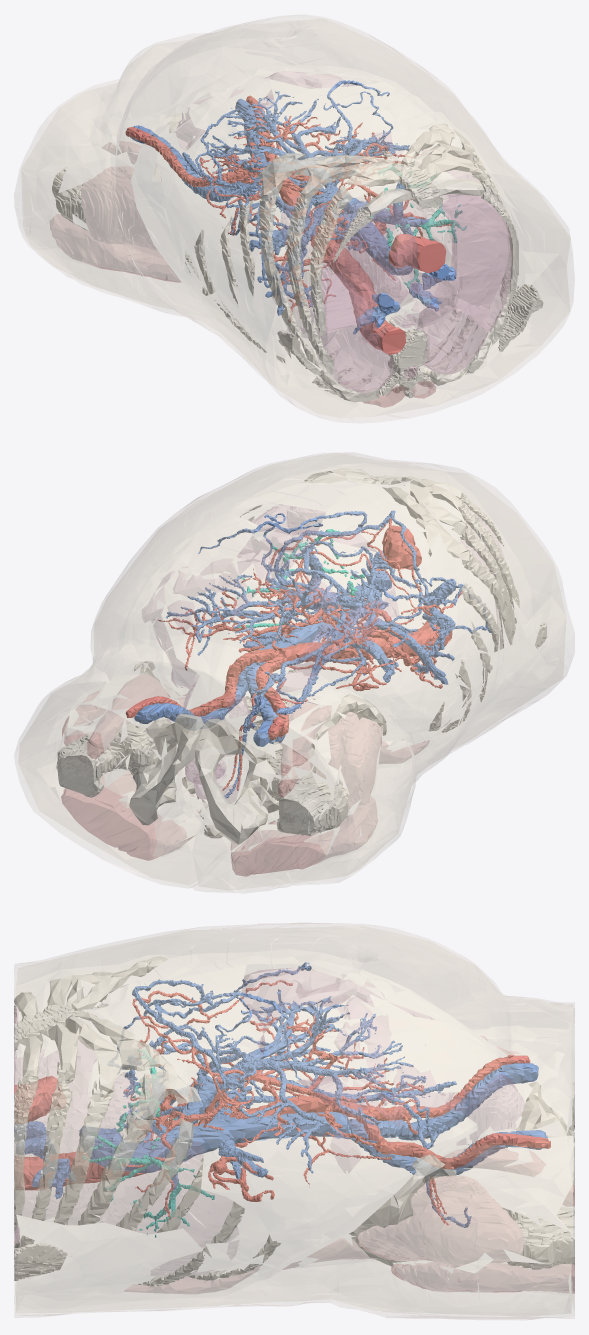
Rendered from abdominal-phantom.glb.
3 renders of one model, top to bottom at view 1: azimuth 30°, elevation 25°; view 2: azimuth 150°, elevation 25°; view 3: azimuth 270°, elevation 25°, orthographic. The views are drawn at different scales.
Visible parts, largest first — view 1: fat_candidate, skin_outer_surface, anatomy__costal_cartilages, anatomy__lung_upper_lobe_left, anatomy__lung_upper_lobe_right, anatomy__lung_lower_lobe_left, anatomy__aorta, anatomy__lung_lower_lobe_right, anatomy__gluteus_medius_left, anatomy__heart, anatomy__gluteus_maximus_left, anatomy__lung_middle_lobe_right (+37 smaller); view 2: fat_candidate, skin_outer_surface, anatomy__small_bowel, anatomy__hip_left, anatomy__gluteus_maximus_right, anatomy__gluteus_maximus_left, anatomy__hip_right, anatomy__femur_right, anatomy__femur_left, anatomy__costal_cartilages, anatomy__aorta, anatomy__gluteus_medius_left (+38 smaller); view 3: fat_candidate, skin_outer_surface, anatomy__small_bowel, anatomy__costal_cartilages, anatomy__liver_parenchyma, anatomy__gluteus_medius_right, anatomy__inferior_vena_cava, anatomy__aorta, anatomy__gluteus_maximus_right, anatomy__lung_middle_lobe_right, anatomy__hip_right, anatomy__iliac_vena_left (+46 smaller).
Part boxes in pixels (bbox=[...]): fat_candidate: bbox=[39, 34, 558, 415]; skin_outer_surface: bbox=[14, 15, 574, 422]; anatomy__costal_cartilages: bbox=[195, 123, 484, 245]; anatomy__lung_upper_lobe_left: bbox=[281, 196, 406, 332]; anatomy__lung_upper_lobe_right: bbox=[437, 194, 512, 331]; anatomy__lung_lower_lobe_left: bbox=[271, 258, 393, 392]; anatomy__aorta: bbox=[275, 172, 446, 354]; anatomy__lung_lower_lobe_right: bbox=[403, 265, 489, 374]; anatomy__gluteus_medius_left: bbox=[81, 171, 157, 250]; anatomy__heart: bbox=[370, 200, 456, 332]; anatomy__gluteus_maximus_left: bbox=[50, 214, 180, 282]; anatomy__lung_middle_lobe_right: bbox=[432, 170, 506, 305]; fat_candidate: bbox=[50, 455, 557, 879]; skin_outer_surface: bbox=[14, 452, 574, 892]; anatomy__small_bowel: bbox=[142, 546, 398, 689]; anatomy__hip_left: bbox=[195, 694, 386, 844]; anatomy__gluteus_maximus_right: bbox=[61, 771, 198, 860]; anatomy__gluteus_maximus_left: bbox=[231, 796, 377, 876]; anatomy__hip_right: bbox=[129, 661, 203, 825]; anatomy__femur_right: bbox=[56, 724, 158, 797]; anatomy__femur_left: bbox=[260, 752, 348, 835]; anatomy__costal_cartilages: bbox=[240, 468, 470, 664]; anatomy__aorta: bbox=[277, 525, 452, 661]; anatomy__gluteus_medius_left: bbox=[339, 717, 381, 808]; fat_candidate: bbox=[15, 949, 573, 1312]; skin_outer_surface: bbox=[14, 922, 574, 1319]; anatomy__small_bowel: bbox=[240, 968, 454, 1142]; anatomy__costal_cartilages: bbox=[15, 956, 201, 1142]; anatomy__liver_parenchyma: bbox=[77, 1072, 238, 1276]; anatomy__gluteus_medius_right: bbox=[357, 1191, 523, 1265]; anatomy__inferior_vena_cava: bbox=[79, 1111, 350, 1172]; anatomy__aorta: bbox=[14, 1076, 332, 1190]; anatomy__gluteus_maximus_right: bbox=[391, 1262, 574, 1293]; anatomy__lung_middle_lobe_right: bbox=[29, 1041, 96, 1219]; anatomy__hip_right: bbox=[349, 1099, 574, 1266]; anatomy__iliac_vena_left: bbox=[356, 1063, 538, 1140].
Bounding box in the file's own units: 435 × 358 × 530.
